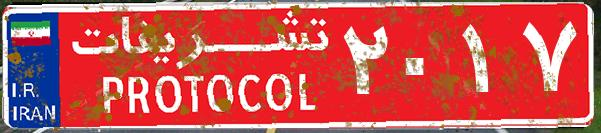0: (400, 20, 460, 115)
1: (460, 20, 520, 115)
2: (340, 20, 400, 115)
7: (520, 20, 580, 115)
تشریفات: (60, 8, 340, 125)
